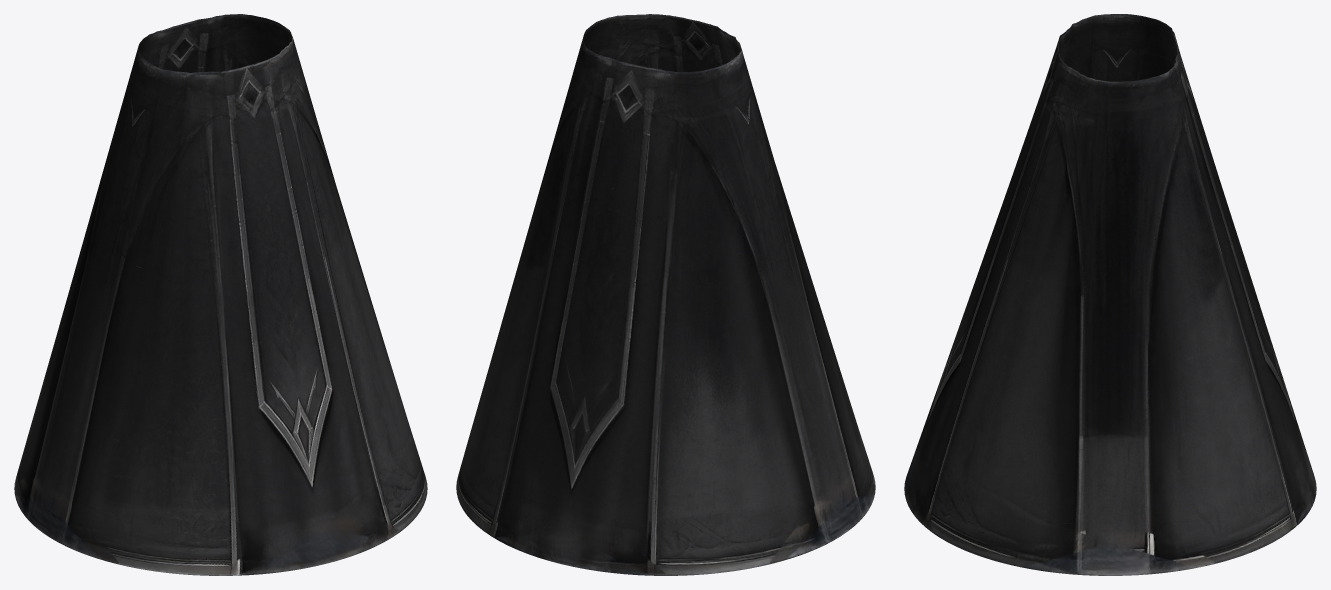
Rendered from BlackMageLowerbody.glb.
The picture shows the model from 3 angles, left to right: view 1: azimuth 30°, elevation 25°; view 2: azimuth 150°, elevation 25°; view 3: azimuth 270°, elevation 25°; orthographic projection.
Bounding box in the file's own units: 1.7 × 2 × 1.7.
1 material, 1 textured.
